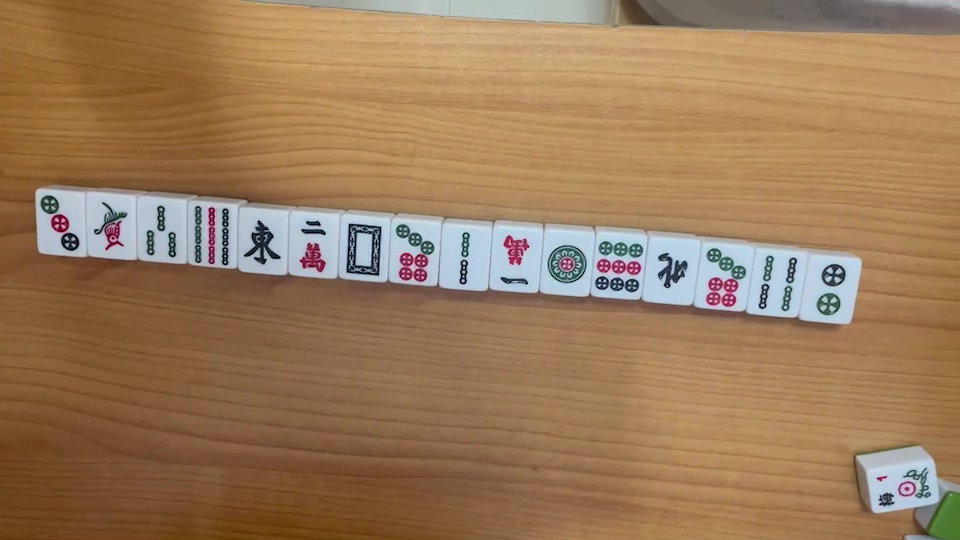b-1: (92, 200, 131, 251)
b-2: (451, 229, 479, 286)
b-3: (142, 204, 180, 259)
b-4: (756, 251, 797, 310)
b-9: (189, 202, 233, 266)
c-1: (492, 233, 536, 287)
c-2: (294, 216, 332, 274)
d-1: (545, 242, 589, 287)
d-2: (807, 259, 851, 319)
d-3: (37, 193, 81, 254)
d-7: (702, 243, 745, 307), (394, 223, 436, 283)
d-9: (594, 238, 643, 295)
honors-east: (240, 213, 285, 267)
honors-north: (653, 251, 689, 292)
honors-white: (342, 223, 384, 276)
